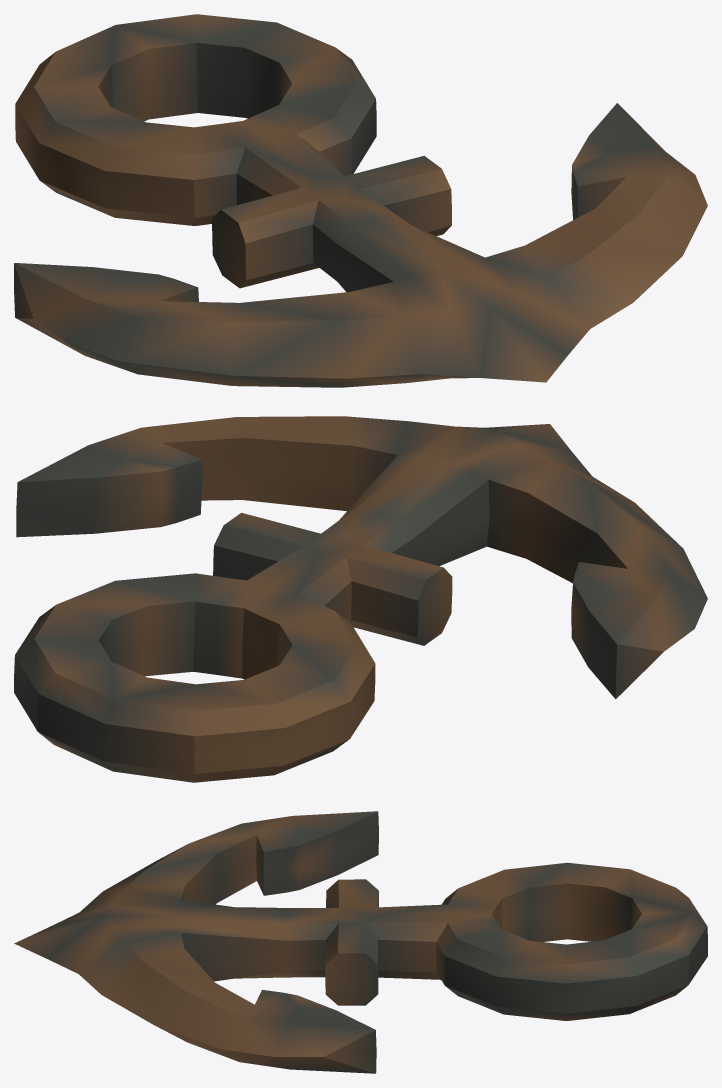
Rendered from anchor.glb.
3 renders of one model, top to bottom at view 1: azimuth 30°, elevation 25°; view 2: azimuth 150°, elevation 25°; view 3: azimuth 270°, elevation 25°, orthographic. The views are drawn at different scales.
Parts seen in each view (by area): view 1: anchor; view 2: anchor; view 3: anchor.
Part boxes in pixels (box(x1,y1,x2,y2)): anchor: box(14, 14, 707, 387); anchor: box(14, 416, 707, 782); anchor: box(14, 811, 707, 1073).
Size of the model in its own units: 1.48 by 0.1764 by 1.8.
